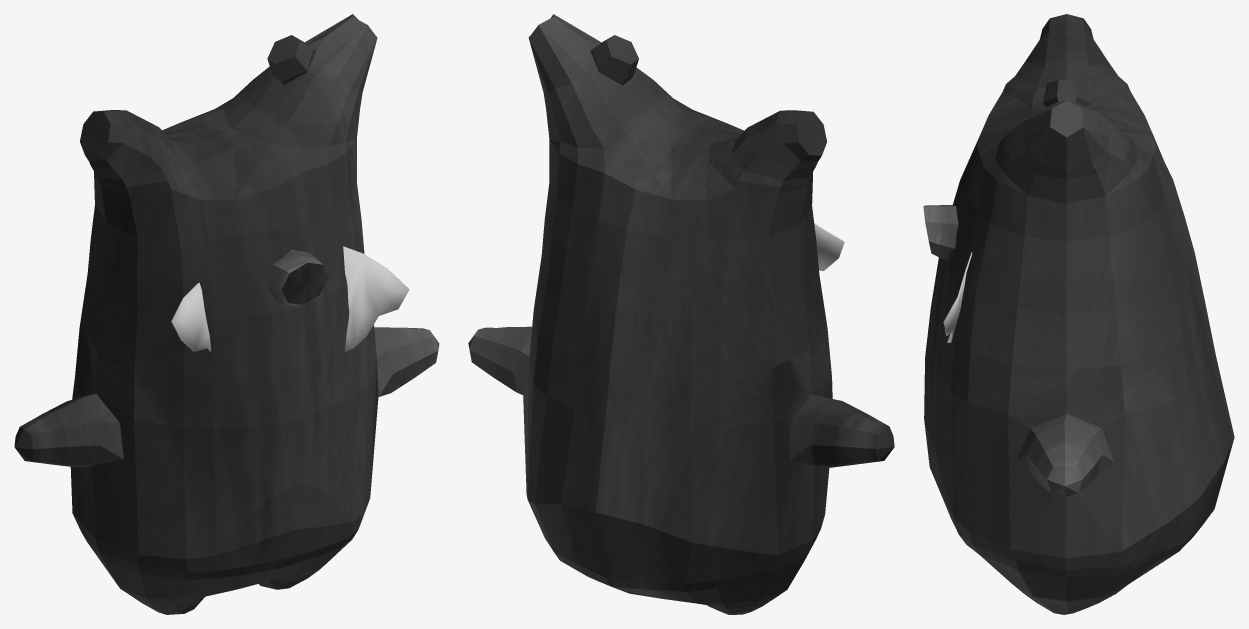
Rendered from frame_0017.obj.
The picture shows the model from 3 angles, left to right: view 1: azimuth 30°, elevation 25°; view 2: azimuth 150°, elevation 25°; view 3: azimuth 270°, elevation 25°; orthographic projection.
Parts seen in each view (by area): view 1: korok, leaf, nose; view 2: korok, leaf; view 3: korok, nose, leaf.
Boxes of the visible parts, x1,y1,x2,y2 form: korok: [14, 14, 439, 614]; leaf: [171, 246, 409, 351]; nose: [267, 250, 328, 306]; korok: [468, 14, 894, 614]; leaf: [814, 223, 844, 270]; korok: [924, 14, 1234, 614]; nose: [923, 205, 958, 261]; leaf: [943, 252, 972, 342].
Bounding box in the file's own units: 1.87 × 2.32 × 1.19.
